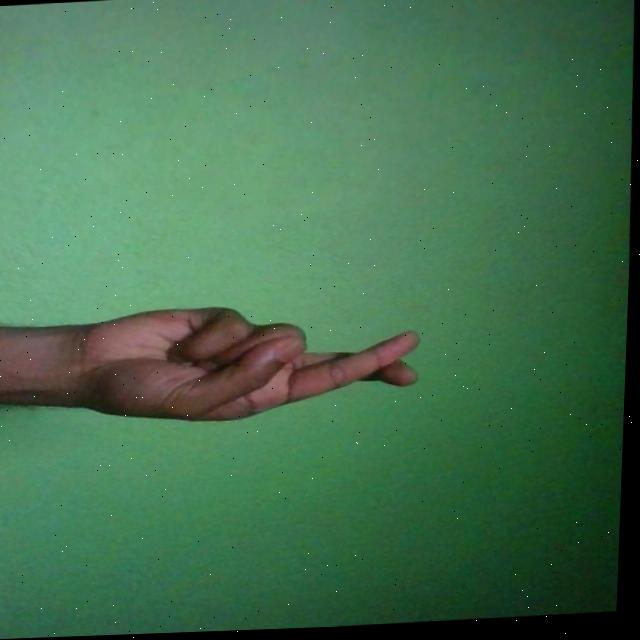Good Luck: (68, 298, 425, 430)
